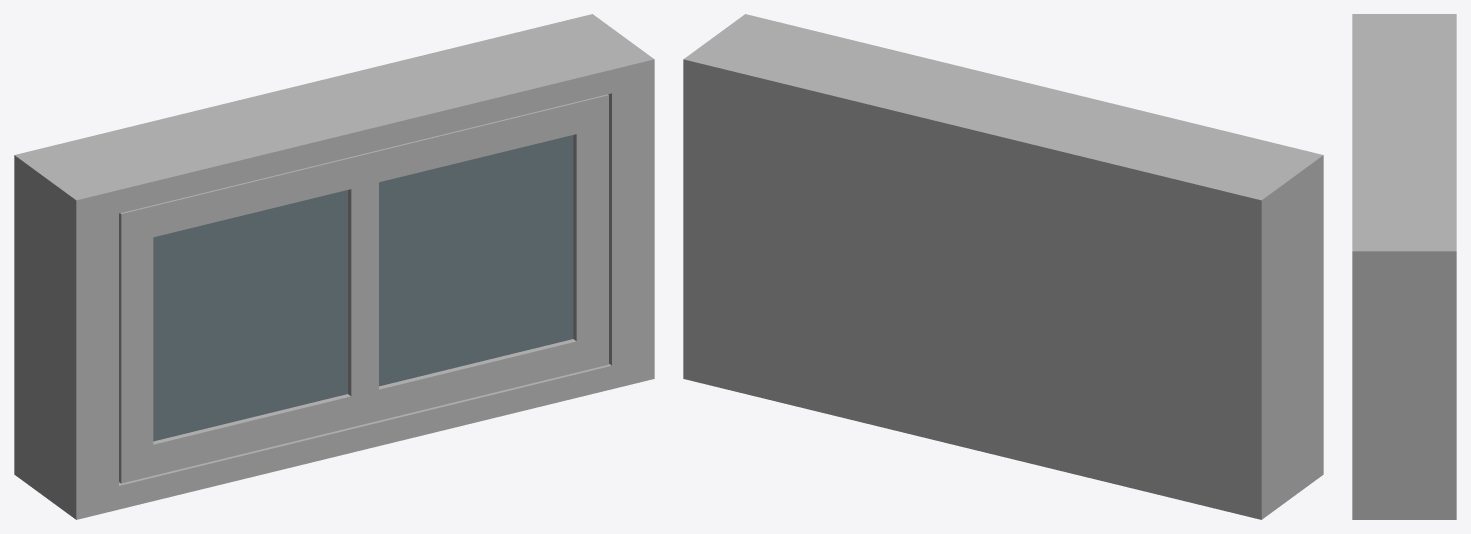
Rendered from windowClosed.fbx.
3 views of the same model, side by side, from view 1: azimuth 30°, elevation 25°; view 2: azimuth 150°, elevation 25°; view 3: azimuth 270°, elevation 25° (orthographic). The views are drawn at different scales.
Visible parts, largest first — view 1: Window Closed; view 2: Window Closed; view 3: Window Closed.
Boxes of the visible parts, bbox=[...] form: Window Closed: bbox=[14, 14, 654, 519]; Window Closed: bbox=[683, 14, 1323, 519]; Window Closed: bbox=[1352, 14, 1456, 519].
Bounding box in the file's own units: 119 × 22.1 × 62.89.
